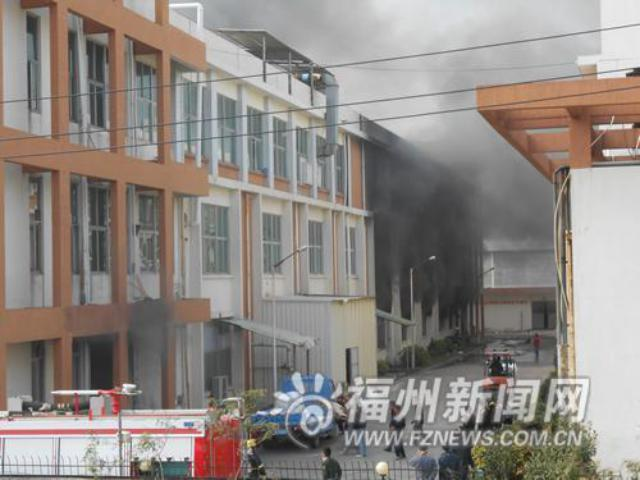smoke: (372, 146, 486, 266)
